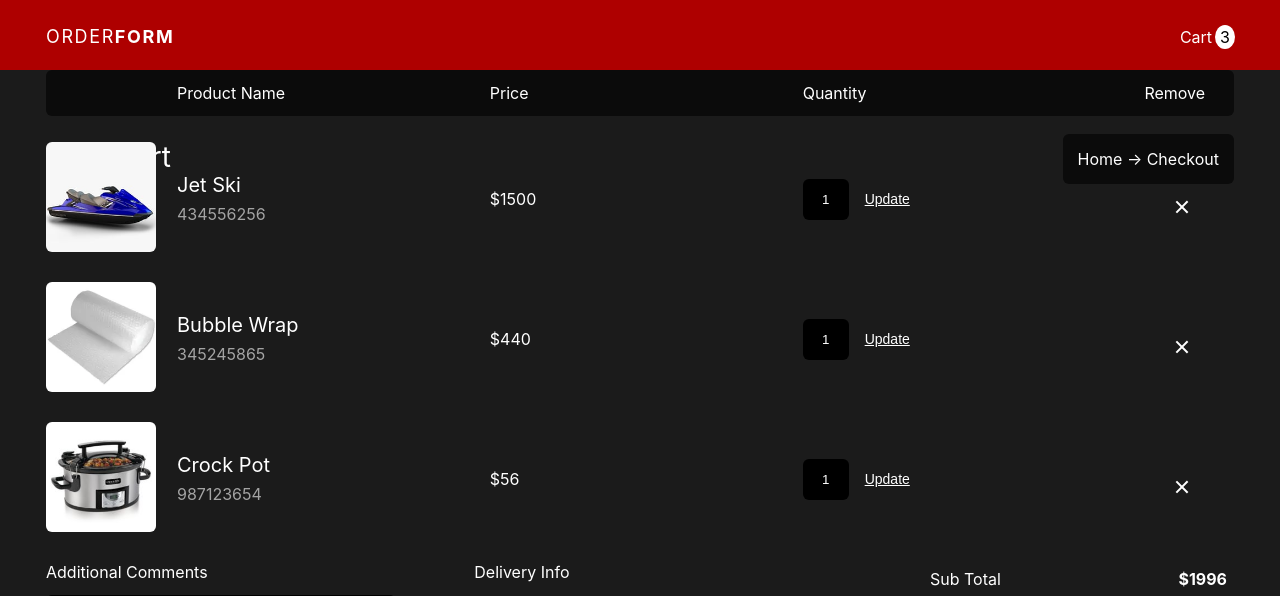
Test: App › actions › should update the quantity of the item
Step 1. Replace the text in the field with test id "quantity-item-0" with "3" → point(826, 199), box [803, 178, 849, 220]
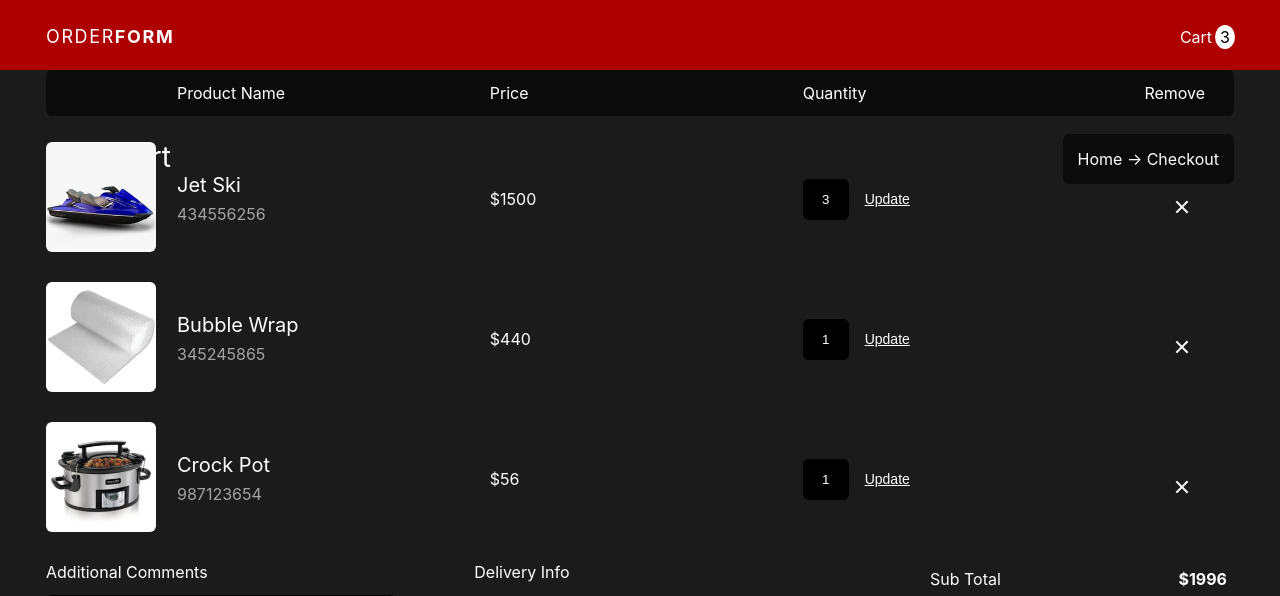
Step 2. Click the button with test id "update-quantity-0" → point(887, 198), box [859, 190, 916, 208]
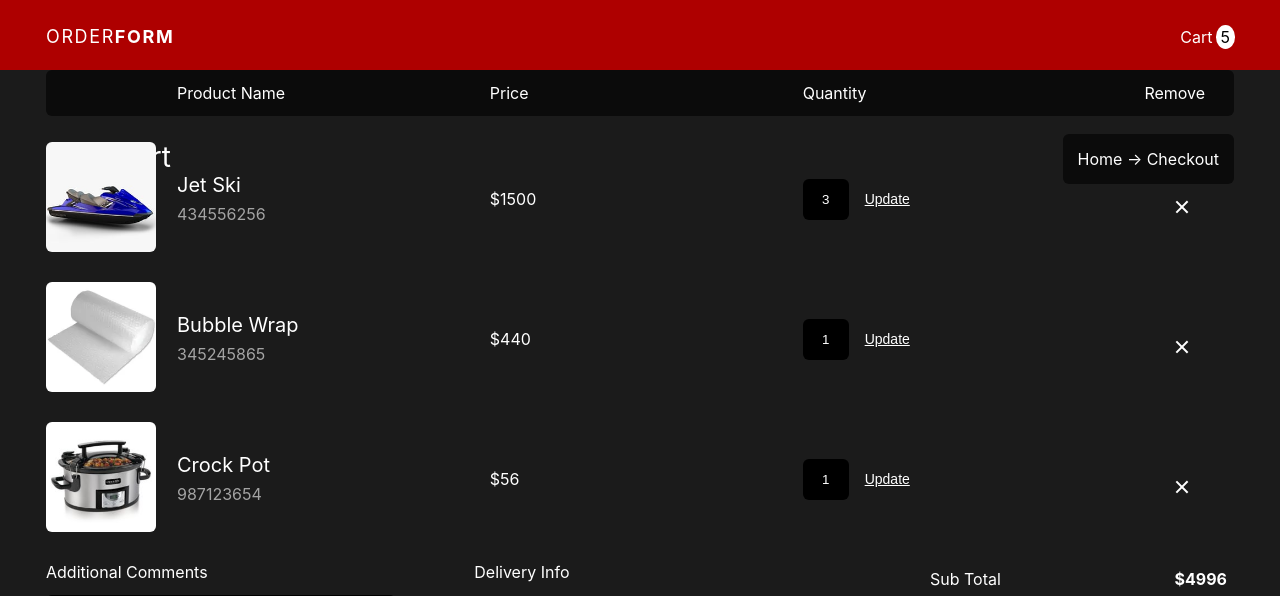
Result: the text with test id "items-count" reads "5" at [1220, 27, 1230, 47]
